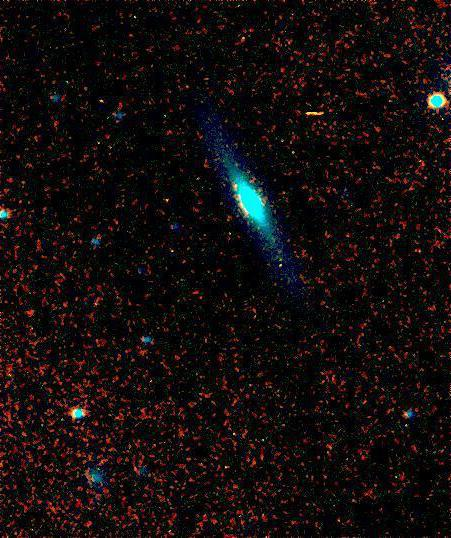star: (221, 170, 251, 200)
